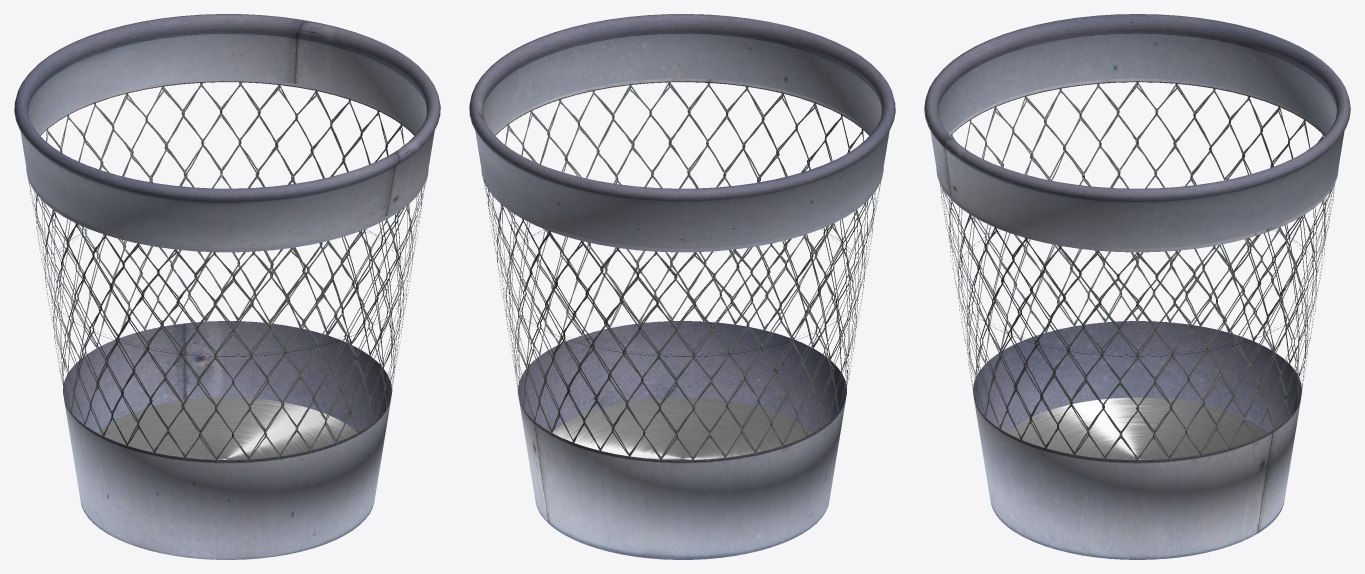
Rendered from RecycleBin.fbx.
3 renders of one model, left to right at view 1: azimuth 30°, elevation 25°; view 2: azimuth 150°, elevation 25°; view 3: azimuth 270°, elevation 25°, orthographic.
Visible parts, largest first — view 1: RecycleBin; view 2: RecycleBin; view 3: RecycleBin.
Part boxes in pixels (x1,y1,x2,y2): RecycleBin: (14, 14, 440, 559); RecycleBin: (469, 14, 895, 559); RecycleBin: (924, 14, 1350, 559).
Bounding box in the file's own units: 201 × 206 × 201.
